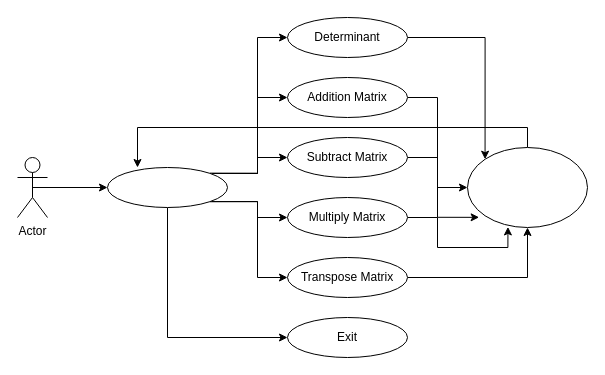
This 605x375 diagram has some shape labels left out. Here are the shapes that lost their labels. From the top down, the centre of each, then its label:
the point at 167,187: Choose from 1 to 6
the point at 527,187: Enter Matrix Size and matrix elements
